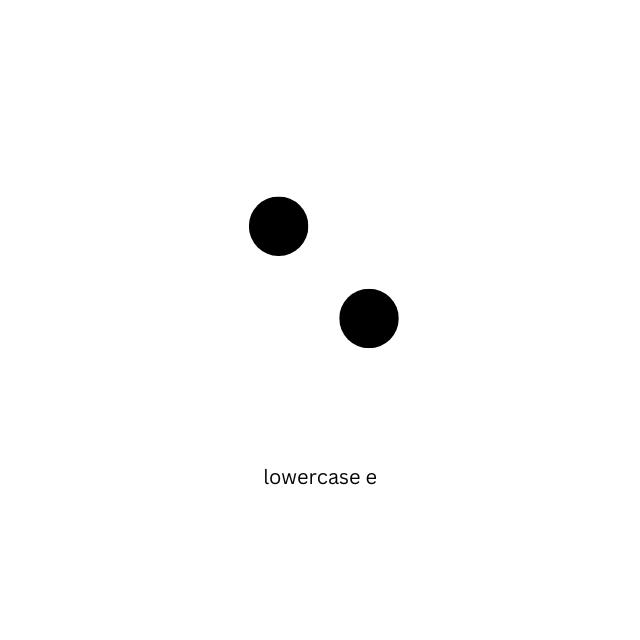letter_e: (247, 196, 400, 426)
